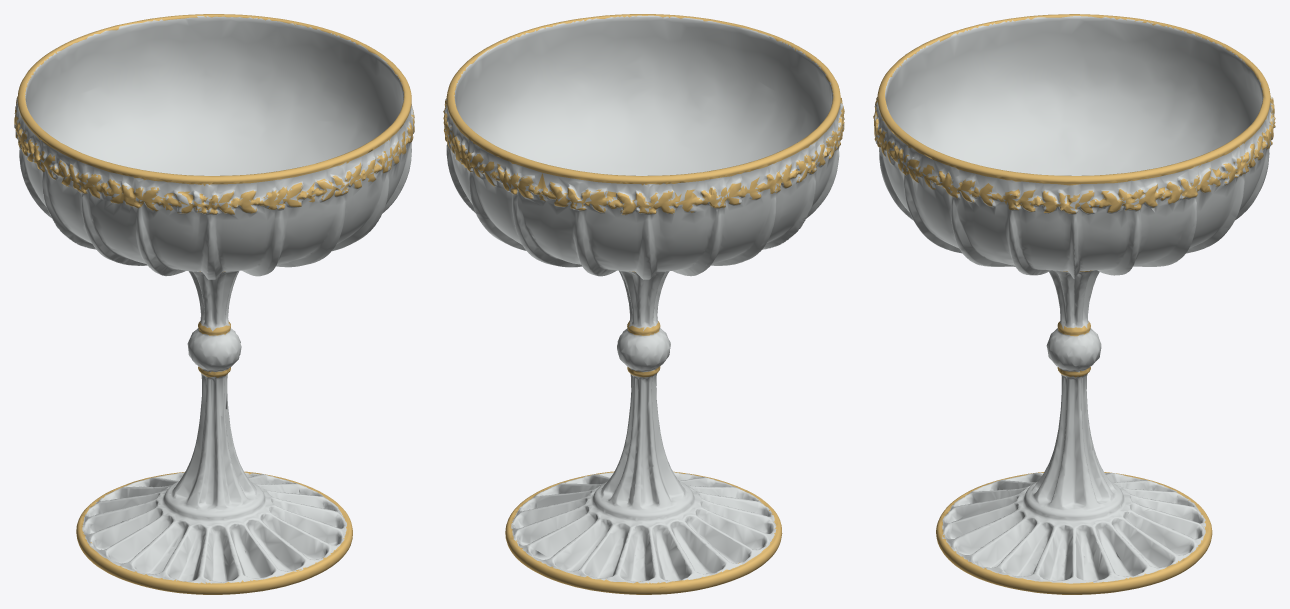
Rendered from aurora-coupe-qa-v2.glb.
3 renders of one model, left to right at view 1: azimuth 30°, elevation 25°; view 2: azimuth 150°, elevation 25°; view 3: azimuth 270°, elevation 25°, orthographic.
Visible parts, largest first — view 1: coupe_aurora_intact, coupe_aurora; view 2: coupe_aurora_intact, coupe_aurora; view 3: coupe_aurora_intact, coupe_aurora.
Boxes of the visible parts, x1,y1,x2,y2 form: coupe_aurora_intact: (14, 14, 414, 594); coupe_aurora: (14, 14, 413, 594); coupe_aurora_intact: (443, 14, 844, 594); coupe_aurora: (443, 14, 844, 594); coupe_aurora_intact: (873, 14, 1275, 594); coupe_aurora: (873, 14, 1273, 594).
Bounding box in the file's own units: 0.329 × 0.4 × 0.3293.
